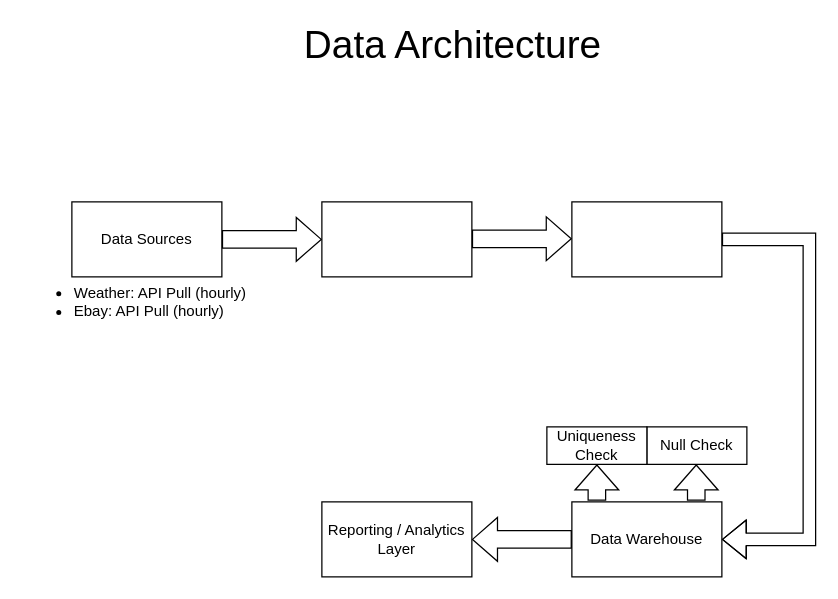
Some shapes in this 838 by 599 pixel diagram are drawn without their labels. Each missing label, with the centre of its shape:
Ingestion Layer: point (396, 239)
Raw Data Storage: point (646, 239)
